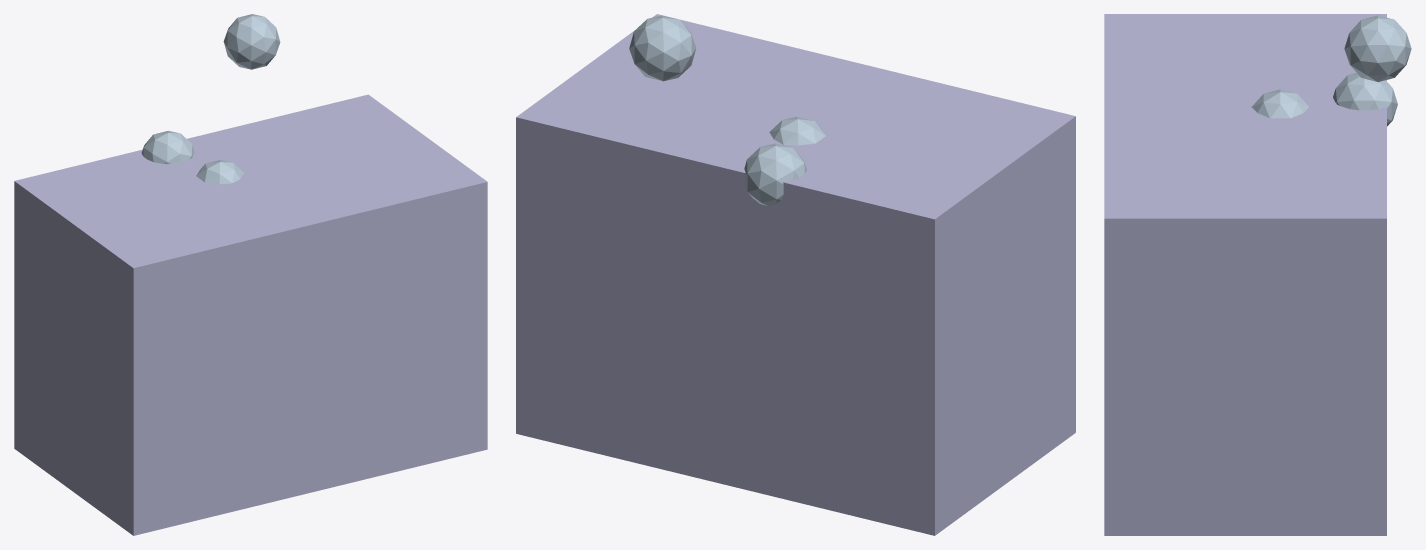
The model's file is thunder_wraith.glb.
3 views of the same model, side by side, from view 1: azimuth 30°, elevation 25°; view 2: azimuth 150°, elevation 25°; view 3: azimuth 270°, elevation 25° (orthographic). The views are drawn at different scales.
Visible parts, largest first — view 1: geometry_0; view 2: geometry_0; view 3: geometry_0.
Boxes of the visible parts, left/top/right/bottom form: geometry_0: left=14, top=14, right=487, bottom=535; geometry_0: left=516, top=14, right=1075, bottom=535; geometry_0: left=1104, top=14, right=1411, bottom=535.
Size of the model in its own units: 0.72 by 0.7347 by 0.4566.
